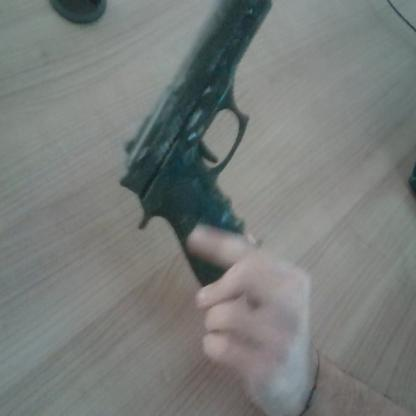handgun: (94, 0, 306, 280)
